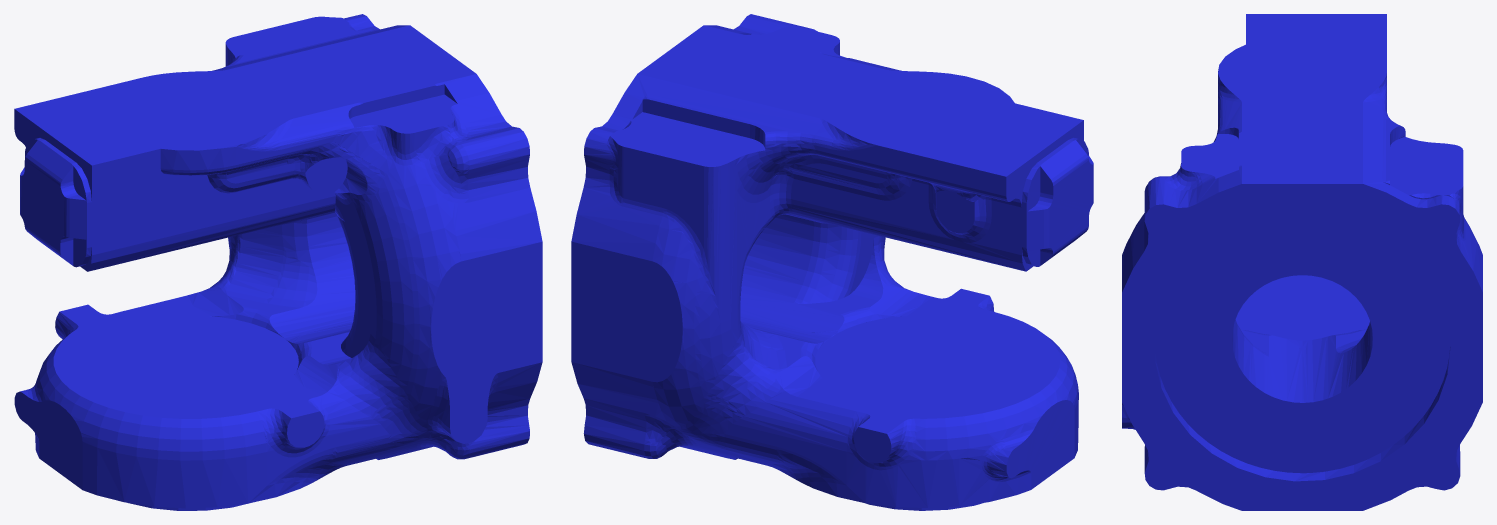
3 views of the same model, side by side, from view 1: azimuth 30°, elevation 25°; view 2: azimuth 150°, elevation 25°; view 3: azimuth 270°, elevation 25° (orthographic). The views are drawn at different scales.
Visible parts, largest first — view 1: /Link5/Link5-mesh/0; view 2: /Link5/Link5-mesh/0; view 3: /Link5/Link5-mesh/0.
Part boxes in pixels (x1=…): /Link5/Link5-mesh/0: x1=14, y1=14, x2=542, y2=510; /Link5/Link5-mesh/0: x1=571, y1=14, x2=1093, y2=510; /Link5/Link5-mesh/0: x1=1122, y1=14, x2=1482, y2=510.
Bounding box in the file's own units: 0.1493 × 0.128 × 0.128.
